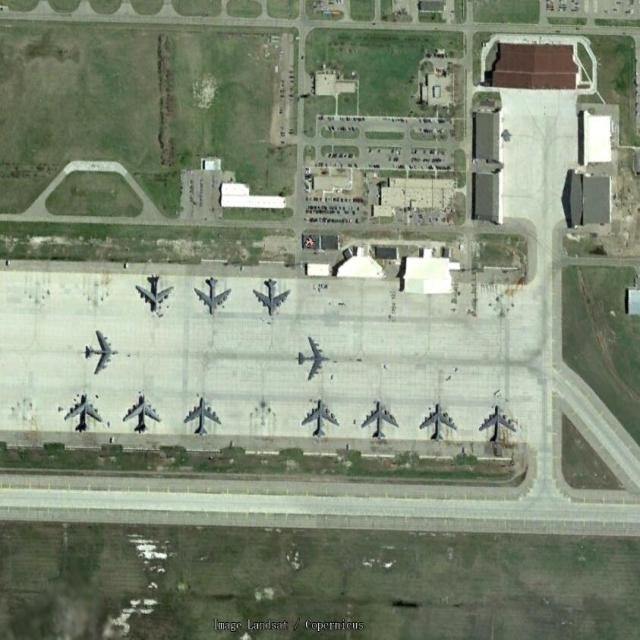fighter jet: (65, 394, 102, 440), (122, 391, 156, 440), (184, 398, 218, 443), (134, 268, 168, 312), (251, 277, 289, 316), (81, 328, 116, 370), (192, 275, 227, 317), (294, 334, 325, 381), (363, 400, 393, 447), (478, 401, 511, 441), (421, 402, 452, 441), (303, 397, 333, 437)
